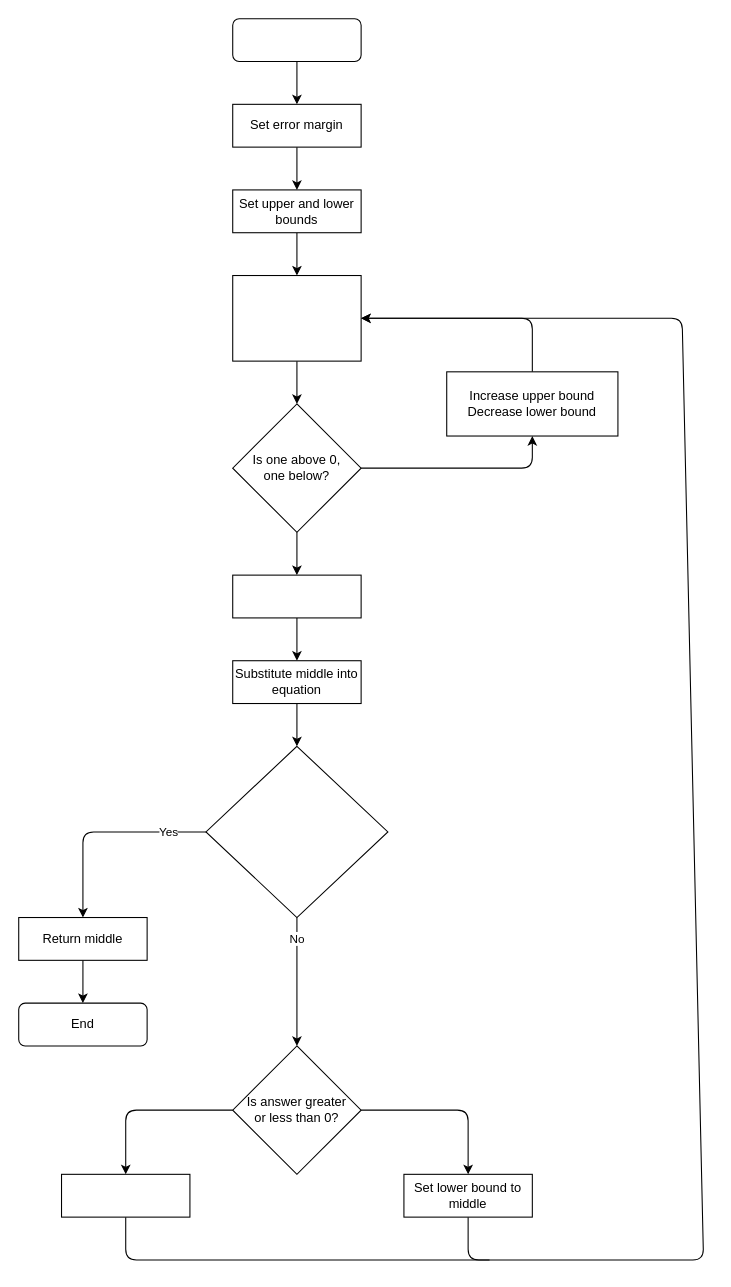
Some shapes in this 731 by 1287 pixel diagram are drawn without their labels. The centre of each missing label's shape, as x and y in pixels:
Find middle of upper and lower bounds: point (296, 596)
Is difference between upper and lower answers < error margin?: point (296, 831)
Set upper bound to middle: point (125, 1195)
Start: point (296, 40)
Substitute upper and lower bounds into equation: point (296, 317)
